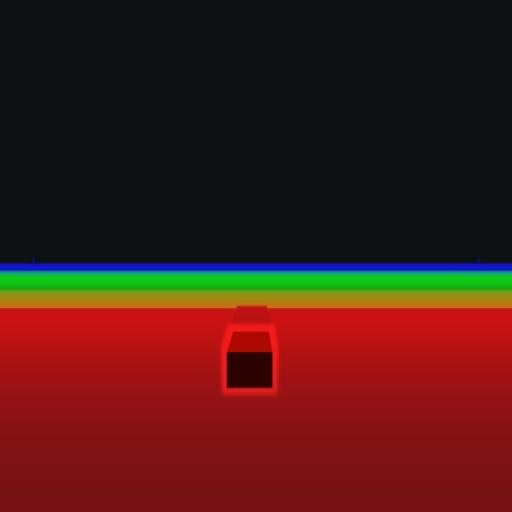debris_container: (223, 327, 276, 387)
